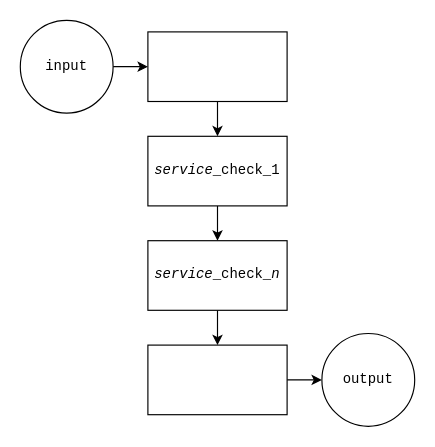
Image size: 435x447. Some labels were removed from this diagram. The centre of each missing label's shape, as x and y in pixels:
"execute_all_controls" goes at (x=217, y=379).
"init" goes at (x=217, y=66).
